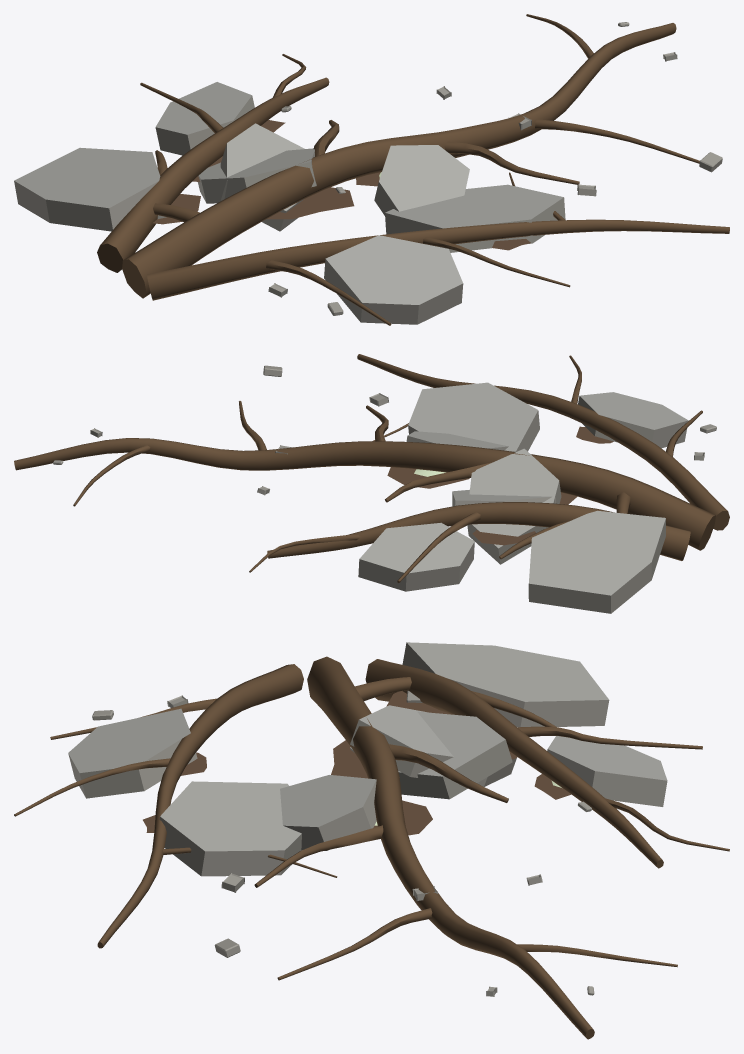
The model's file is roots_floor.glb.
The picture shows the model from 3 angles, top to bottom: view 1: azimuth 30°, elevation 25°; view 2: azimuth 150°, elevation 25°; view 3: azimuth 270°, elevation 25°; orthographic projection. The views are drawn at different scales.
Parts seen in each view (by area): view 1: teil0, teil3, teil2, teil1; view 2: teil0, teil3, teil2, teil1; view 3: teil0, teil3, teil2, teil1.
Boxes of the visible parts, bbox=[...] form: teil0: bbox=[97, 14, 729, 325]; teil3: bbox=[14, 82, 563, 304]; teil2: bbox=[14, 22, 722, 324]; teil1: bbox=[153, 120, 530, 250]; teil0: bbox=[14, 354, 729, 582]; teil3: bbox=[359, 382, 688, 595]; teil2: bbox=[53, 365, 716, 613]; teil1: bbox=[387, 426, 613, 545]; teil0: bbox=[14, 656, 729, 1039]; teil3: bbox=[68, 642, 667, 851]; teil2: bbox=[68, 642, 667, 996]; teil1: bbox=[143, 691, 571, 835].
Bounding box in the file's own units: 2.46 × 0.2772 × 2.05.
